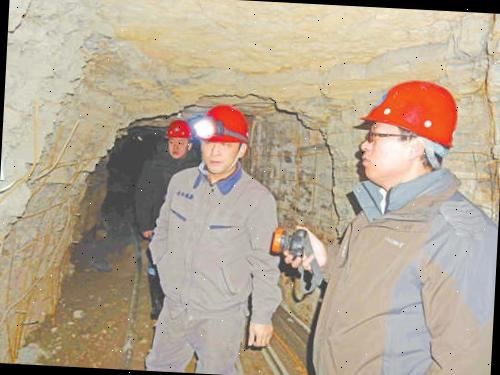helmet: (357, 72, 478, 152), (198, 100, 258, 150), (162, 116, 194, 140)
wear: (315, 193, 499, 375), (152, 164, 286, 334)
